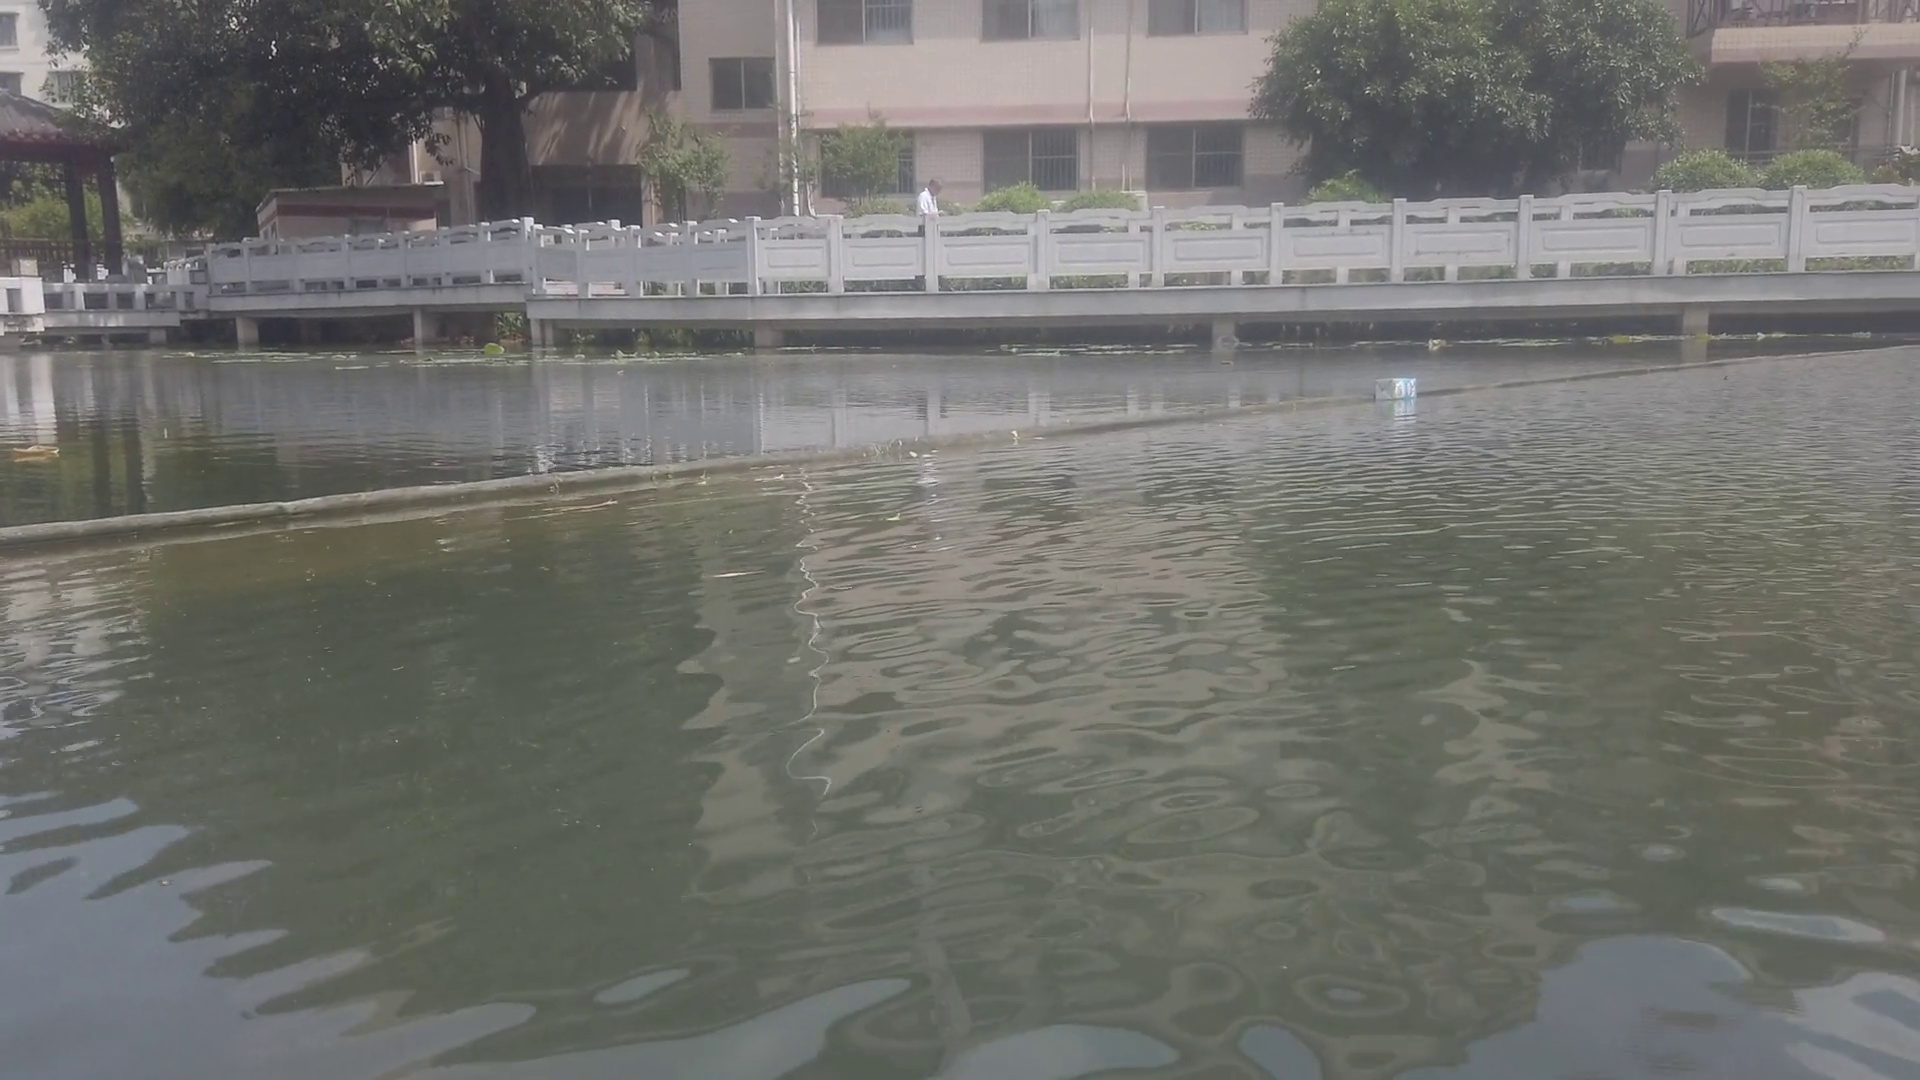carton: (1371, 371, 1418, 398)
